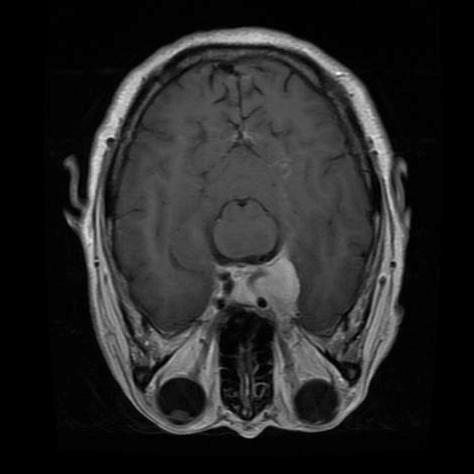Tumour-Meningioma: (225, 240, 315, 324)
